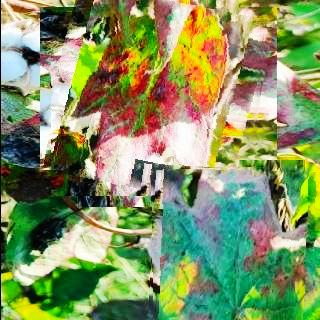blight: (50, 0, 266, 196), (150, 165, 314, 320)
